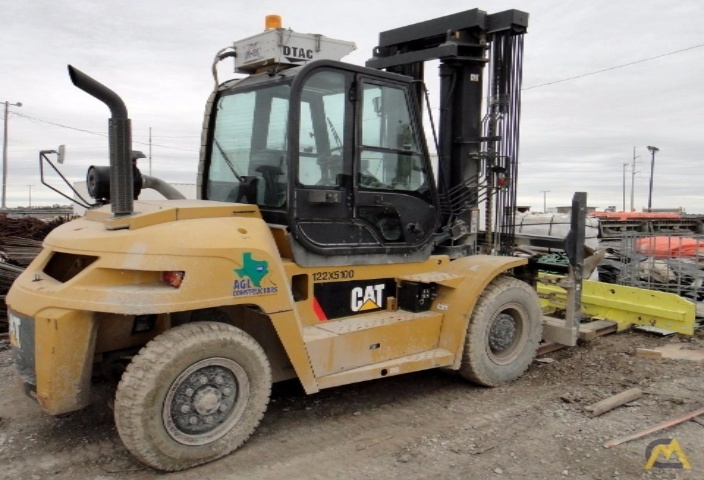truck: (1, 11, 599, 462)
